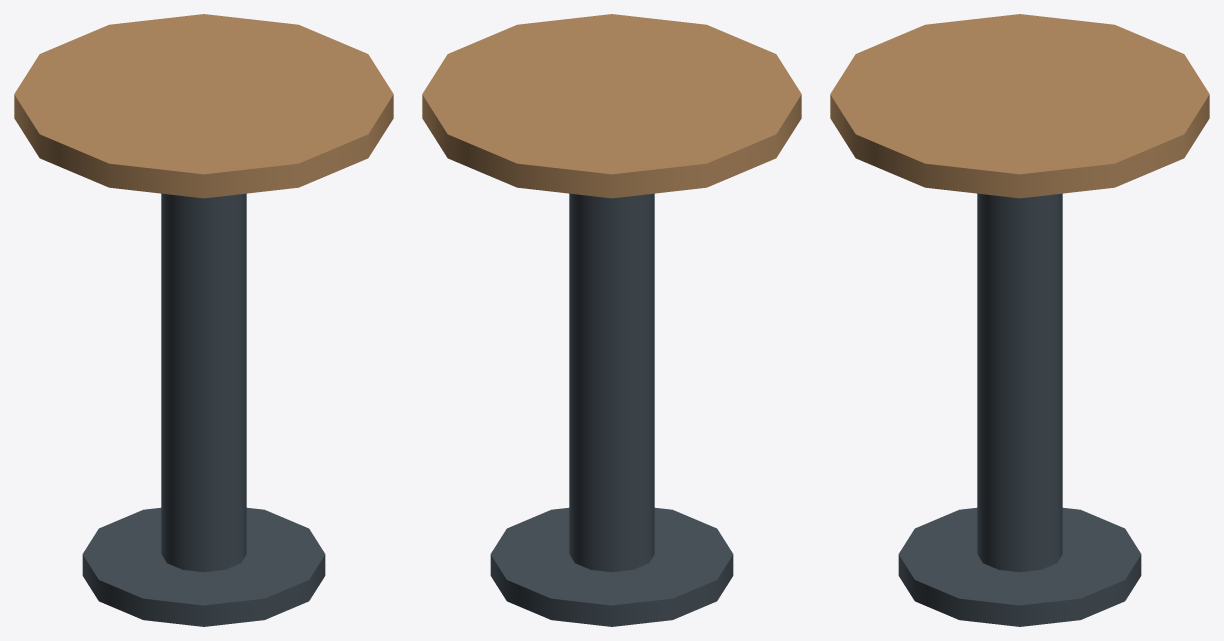
The model's file is sideTable-1.glb.
3 renders of one model, left to right at view 1: azimuth 30°, elevation 25°; view 2: azimuth 150°, elevation 25°; view 3: azimuth 270°, elevation 25°, orthographic.
Parts seen in each view (by area): view 1: sideTable:1:editor; view 2: sideTable:1:editor; view 3: sideTable:1:editor.
Part boxes in pixels (x1=…): sideTable:1:editor: x1=14, y1=14, x2=393, y2=626; sideTable:1:editor: x1=422, y1=14, x2=801, y2=626; sideTable:1:editor: x1=830, y1=14, x2=1209, y2=626.
Bounding box in the file's own units: 0.4 × 0.56 × 0.4.
